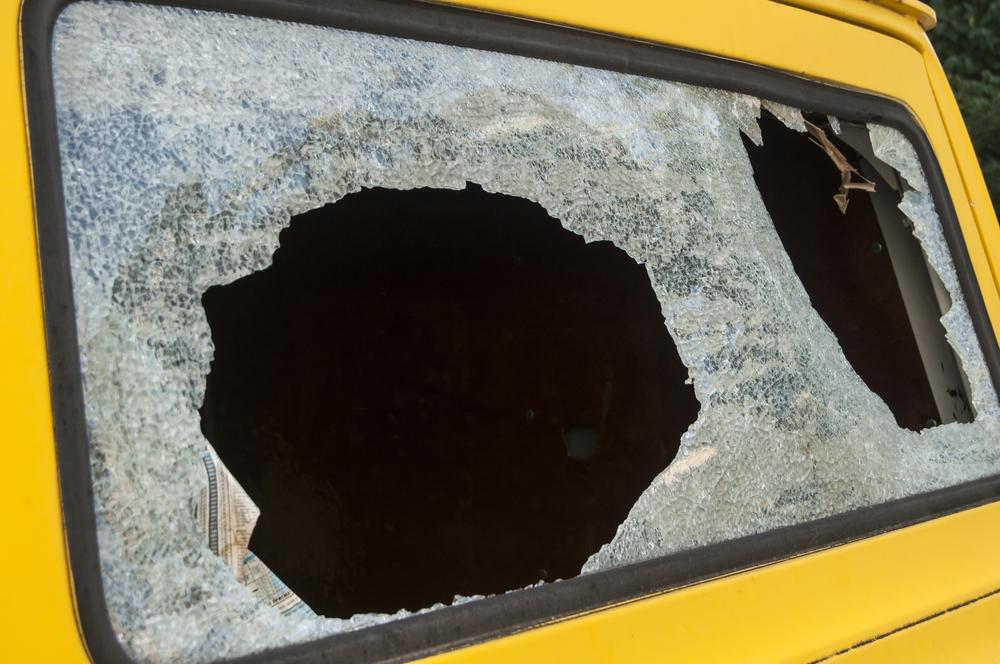glass shatter: (47, 0, 1000, 664)
